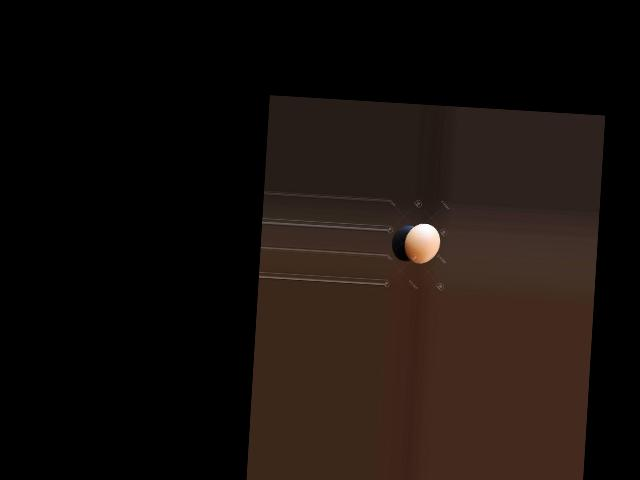egg: (402, 222, 440, 264)
